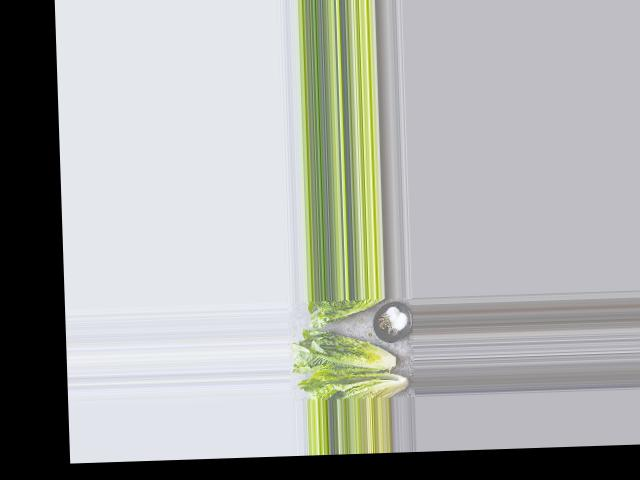lettuce: (305, 367, 415, 399)
